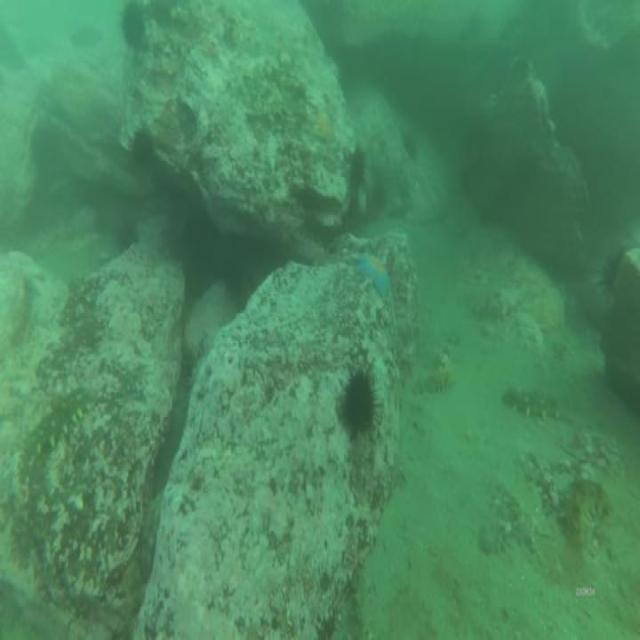echinus: (343, 362, 385, 442), (126, 120, 158, 171), (117, 2, 147, 52), (349, 141, 370, 194)
holothurian: (18, 382, 95, 487), (560, 472, 613, 554), (503, 373, 567, 428)
starfish: (353, 248, 394, 300)
